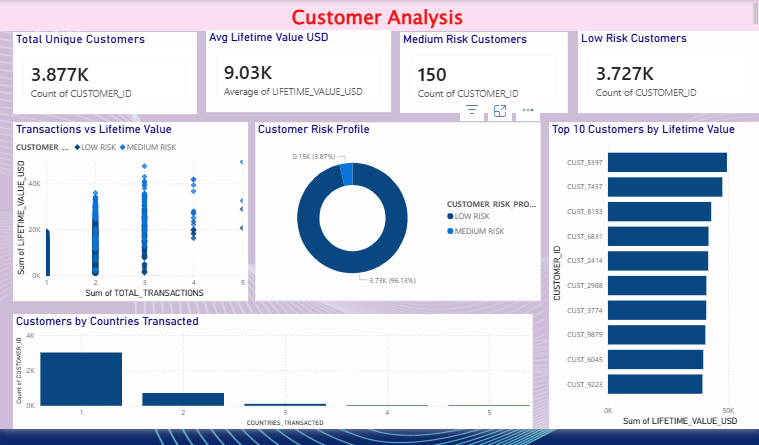

This screenshot's page, from the dashboard's own definition file:
{"tool":"powerbi","page":{"name":"Customer Analysis","canvas":[1280,720],"ordinal":1},"visuals":[{"type":"textbox","box":[0,0,1280,52.1],"z":0},{"type":"cardVisual","title":"Total Unique Customers","fields":{"Data":["CountNonNull(FCT_CUSTOMER_SUMMARY (2).CUSTOMER_ID)"]},"box":[23.5,53.8,309.1,137.7],"z":1000},{"type":"cardVisual","title":"Avg Lifetime Value USD","fields":{"Data":["Avg(FCT_CUSTOMER_SUMMARY (2).LIFETIME_VALUE_USD)"]},"box":[347.7,50.4,310.8,137.7],"z":2000},{"type":"cardVisual","title":"Medium Risk Customers","fields":{"Data":["Count(FCT_CUSTOMER_SUMMARY (2).CUSTOMER_ID)"]},"box":[673.6,53.8,282.2,136.1],"z":3000},{"type":"cardVisual","title":"Low Risk Customers","fields":{"Data":["Count(FCT_CUSTOMER_SUMMARY (2).CUSTOMER_ID)"]},"box":[972.6,52.1,307.4,137.7],"z":4000},{"type":"clusteredBarChart","title":"Top 10 Customers by Lifetime Value","fields":{"Category":["FCT_CUSTOMER_SUMMARY (2).CUSTOMER_ID"],"Y":["Sum(FCT_CUSTOMER_SUMMARY (2).LIFETIME_VALUE_USD)"]},"box":[923.9,204.9,356.1,515.7],"z":5000},{"type":"donutChart","title":"Customer Risk Profile","fields":{"Category":["FCT_CUSTOMER_SUMMARY (2).CUSTOMER_RISK_PROFILE"],"Y":["CountNonNull(FCT_CUSTOMER_SUMMARY (2).CUSTOMER_ID)"]},"box":[430,204.9,480.4,300.7],"z":6000},{"type":"scatterChart","title":"Transactions vs Lifetime Value","fields":{"X":["Sum(FCT_CUSTOMER_SUMMARY (2).TOTAL_TRANSACTIONS)"],"Y":["Sum(FCT_CUSTOMER_SUMMARY (2).LIFETIME_VALUE_USD)"],"Category":["FCT_CUSTOMER_SUMMARY (2).CUSTOMER_ID"],"Series":["FCT_CUSTOMER_SUMMARY (2).CUSTOMER_RISK_PROFILE"]},"box":[23.5,204.9,394.8,300.7],"z":7000},{"type":"clusteredColumnChart","title":"Customers by Countries Transacted","fields":{"Category":["FCT_CUSTOMER_SUMMARY (2).COUNTRIES_TRANSACTED"],"Y":["CountNonNull(FCT_CUSTOMER_SUMMARY (2).CUSTOMER_ID)"]},"box":[23.5,527.5,873.5,193.2],"z":8000}]}

Visuals, with their boxes on the page's 1280x720 design canvas (x1, y1, x2, y2). These are canvas units, not pixel positions in the 759x445 screenshot, which may show the page scaled, cropped or inside an application window:
textbox: x1=0 y1=0 x2=1280 y2=52
"Total Unique Customers" cardVisual: x1=24 y1=54 x2=333 y2=192
"Avg Lifetime Value USD" cardVisual: x1=348 y1=50 x2=658 y2=188
"Medium Risk Customers" cardVisual: x1=674 y1=54 x2=956 y2=190
"Low Risk Customers" cardVisual: x1=973 y1=52 x2=1280 y2=190
"Top 10 Customers by Lifetime Value" clusteredBarChart: x1=924 y1=205 x2=1280 y2=721
"Customer Risk Profile" donutChart: x1=430 y1=205 x2=910 y2=506
"Transactions vs Lifetime Value" scatterChart: x1=24 y1=205 x2=418 y2=506
"Customers by Countries Transacted" clusteredColumnChart: x1=24 y1=528 x2=897 y2=721
